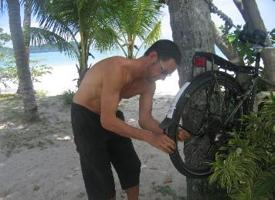person: (68, 38, 192, 200)
